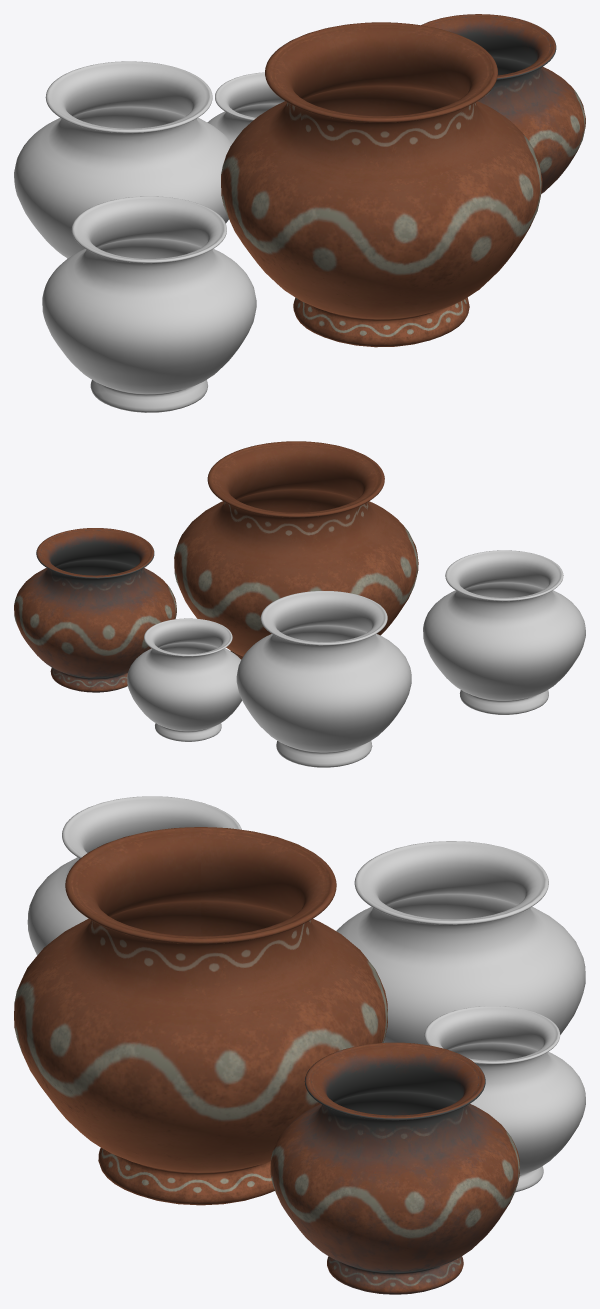
The model's file is IndianPots.fbx.
3 views of the same model, one above another, from view 1: azimuth 30°, elevation 25°; view 2: azimuth 150°, elevation 25°; view 3: azimuth 270°, elevation 25° (orthographic). The views are drawn at different scales.
Visible parts, largest first — view 1: Object_10, Object_8, Object_4.001, Object_12, Object_6; view 2: Object_10, Object_4.001, Object_8, Object_12, Object_6; view 3: Object_10, Object_12, Object_4.001, Object_6, Object_8.
Part boxes in pixels (x1,y1,x2,y2): Object_10: [221, 22, 542, 347]; Object_8: [42, 196, 256, 412]; Object_4.001: [14, 61, 232, 258]; Object_12: [421, 14, 585, 193]; Object_6: [207, 72, 284, 143]; Object_10: [174, 441, 418, 659]; Object_4.001: [236, 591, 411, 767]; Object_8: [423, 550, 585, 714]; Object_12: [14, 528, 176, 692]; Object_6: [127, 618, 242, 741]; Object_10: [14, 827, 387, 1205]; Object_12: [270, 1042, 519, 1294]; Object_4.001: [336, 841, 585, 1045]; Object_6: [424, 1006, 585, 1192]; Object_8: [27, 796, 241, 955].
Size of the model in its own units: 513 by 192 by 353.
